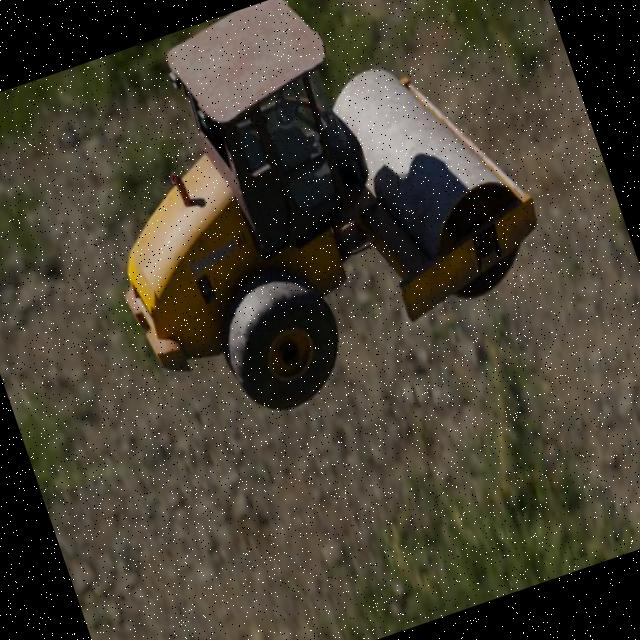Roller: (47, 0, 572, 448)
